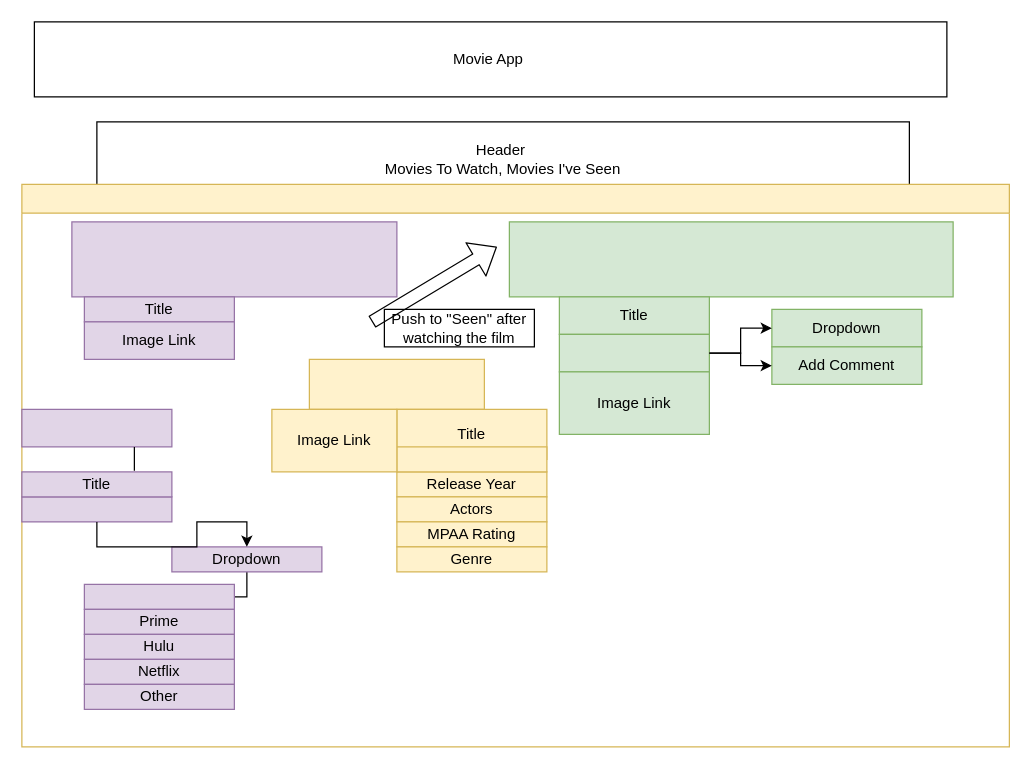
This 1031x769 diagram has some shape labels left out. Here are the shapes that lost their labels. From the top down, the box of each, then its label:
(71, 221, 397, 297): Movies I Need to Watch
(508, 221, 953, 297): Movies I've Seen
(558, 333, 709, 372): My Rating
(308, 358, 484, 409): Movie Model
(21, 408, 172, 447): User Inputs:
(396, 446, 547, 472): Summary
(21, 496, 172, 522): Platform
(83, 583, 234, 609): Disney+
